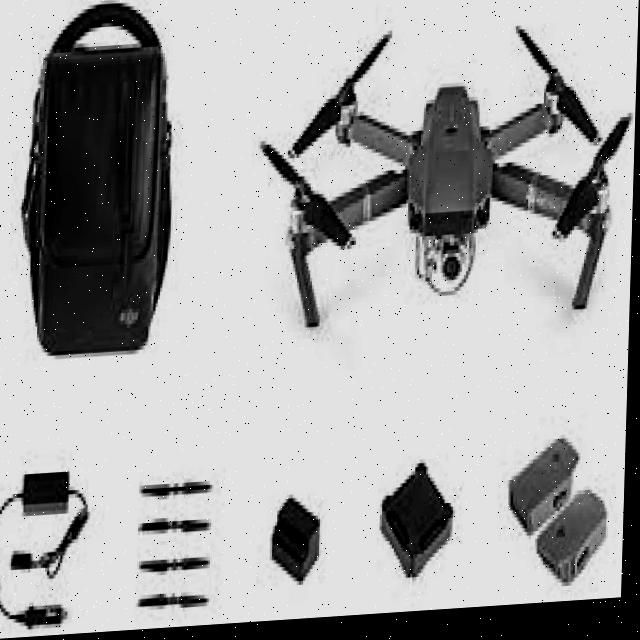drone: (260, 31, 638, 369)
